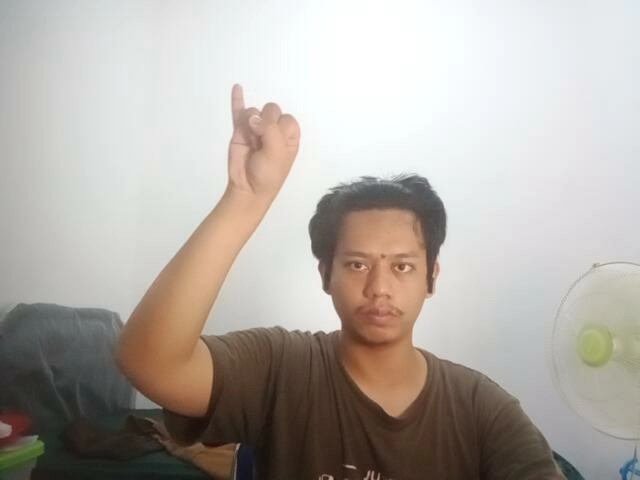I: (204, 79, 313, 208)
